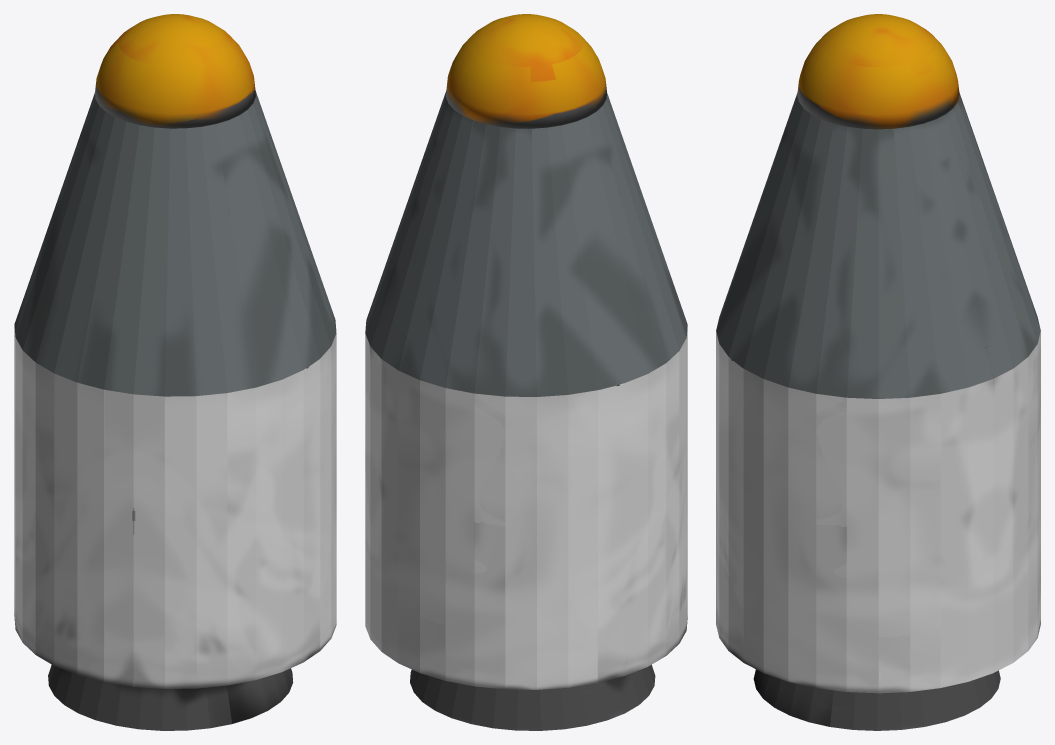
File: CMD-1.dae
The picture shows the model from 3 angles, left to right: view 1: azimuth 30°, elevation 25°; view 2: azimuth 150°, elevation 25°; view 3: azimuth 270°, elevation 25°; orthographic projection.
Parts seen in each view (by area): view 1: SFB-1, CMD-1, Parachute; view 2: SFB-1, CMD-1, Parachute; view 3: SFB-1, CMD-1, Parachute.
Boxes of the visible parts, <box> form: SFB-1: <box>14,324,336,730</box>; CMD-1: <box>14,91,336,396</box>; Parachute: <box>95,14,255,128</box>; SFB-1: <box>365,327,687,730</box>; CMD-1: <box>365,91,687,396</box>; Parachute: <box>446,14,606,128</box>; SFB-1: <box>716,330,1040,730</box>; CMD-1: <box>716,92,1040,398</box>; Parachute: <box>797,14,959,129</box>.
Bounding box in the file's own units: 2.5 × 2.5 × 5.61.
3 materials, 3 textured.
